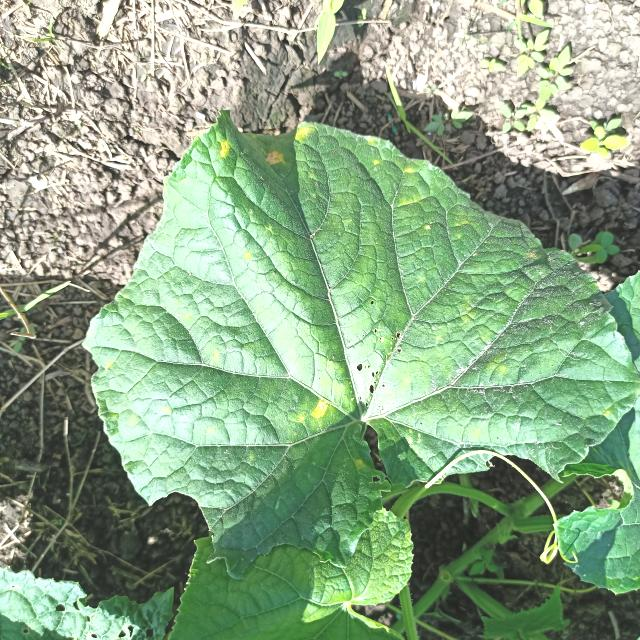disease_cucumber: (310, 397, 328, 420), (264, 150, 286, 168), (292, 125, 310, 139), (218, 138, 230, 158), (164, 407, 169, 415)
